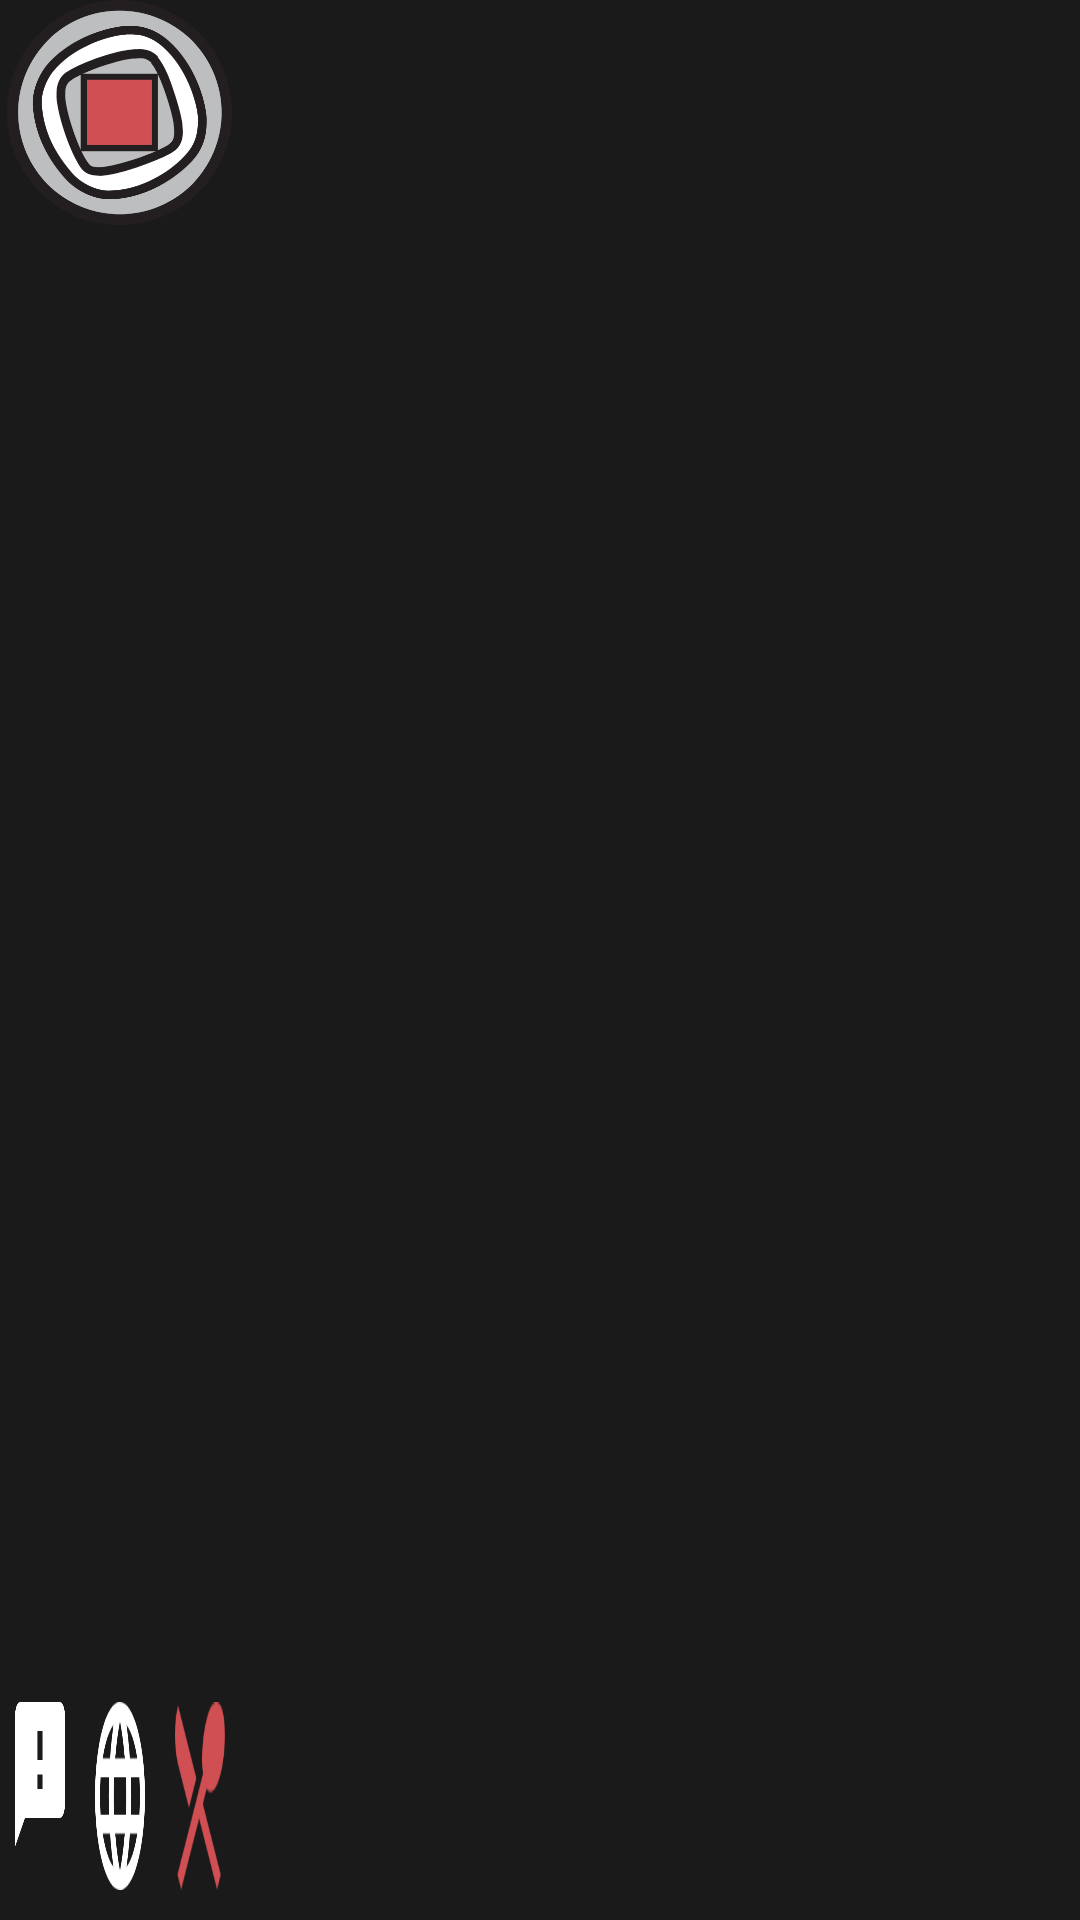

Where to tap for icons on this 1080w x 1920h app screen, as [x,y]:
Feedback: [40,1774]
Language: [120,1796]
Menu: [200,1796]
